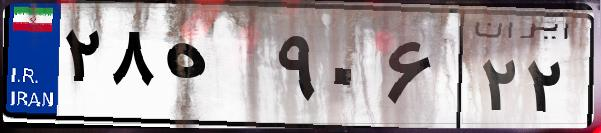0: (330, 28, 385, 110)
2: (57, 26, 110, 100), (475, 38, 525, 113), (525, 38, 570, 115)
6: (385, 28, 445, 110)
8: (110, 28, 158, 98)
9: (270, 28, 330, 110)
ه: (158, 20, 270, 120)
